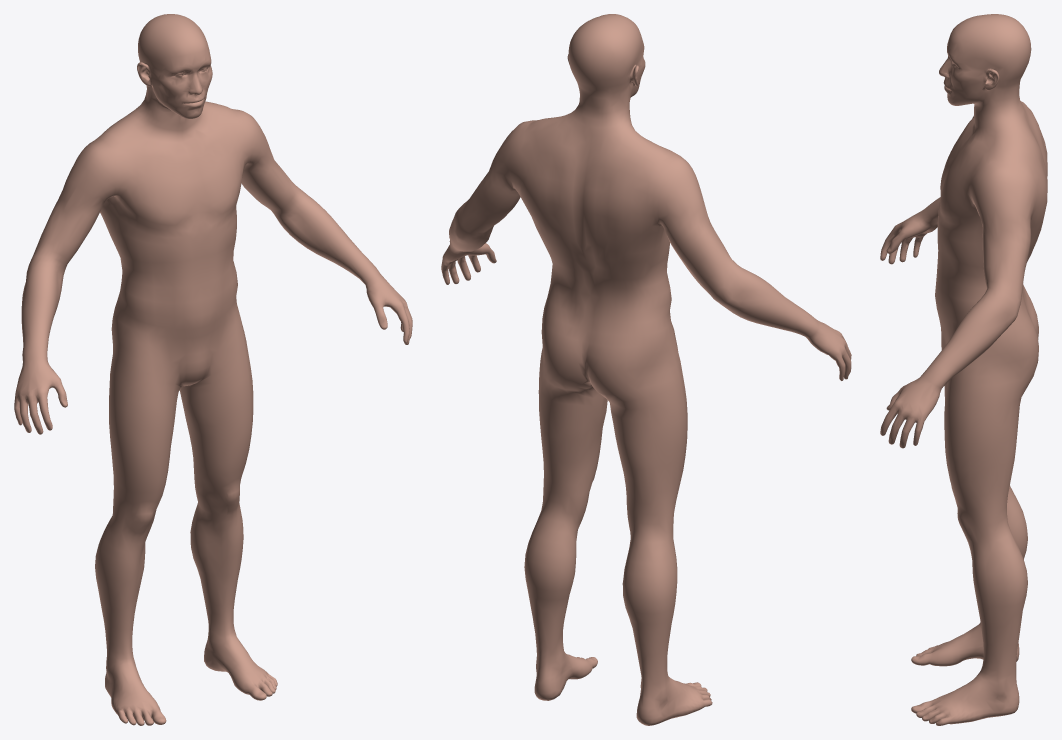
File: body_male.glb
The picture shows the model from 3 angles, left to right: view 1: azimuth 30°, elevation 25°; view 2: azimuth 150°, elevation 25°; view 3: azimuth 270°, elevation 25°; orthographic projection. The views are drawn at different scales.
Parts seen in each view (by area): view 1: Male1; view 2: Male1; view 3: Male1.
Part boxes in pixels (box(x1,y1,x2,y2)): Male1: box(14, 14, 412, 725); Male1: box(441, 14, 851, 725); Male1: box(880, 14, 1047, 725).
Size of the model in its own units: 0.1482 by 0.2414 by 0.0545.
